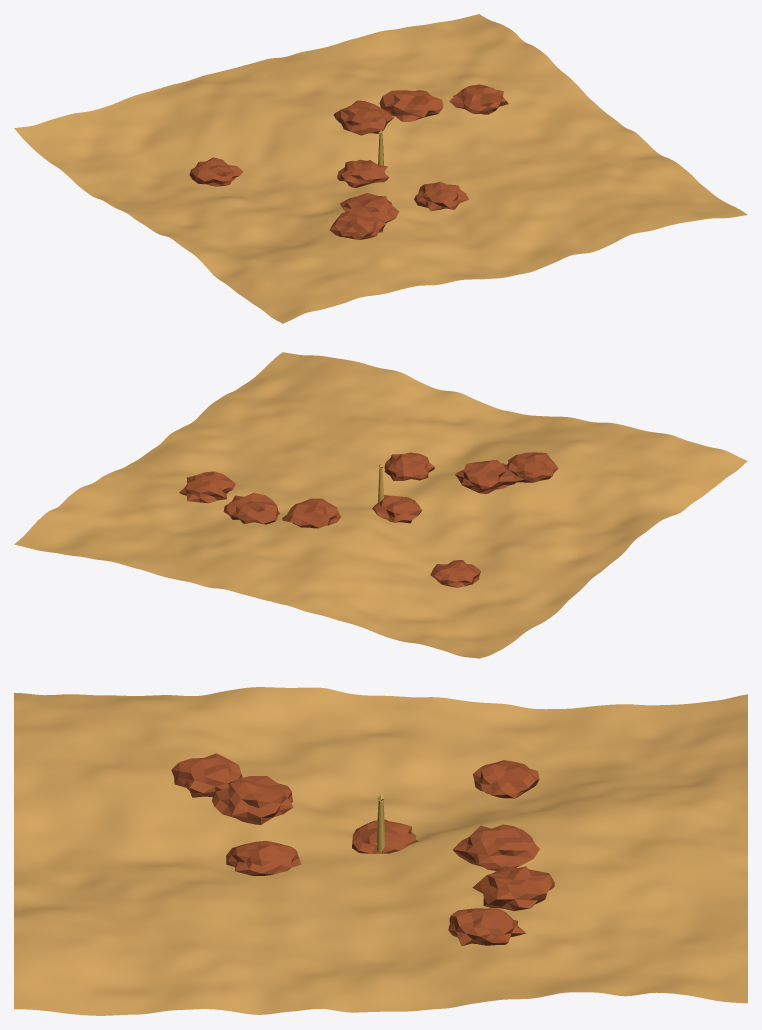
File: Preset-desert.glb
3 renders of one model, top to bottom at view 1: azimuth 30°, elevation 25°; view 2: azimuth 150°, elevation 25°; view 3: azimuth 270°, elevation 25°, orthographic. The views are drawn at different scales.
Parts seen in each view (by area): view 1: dunes-surface, mesas-stone (×8); view 2: dunes-surface, mesas-stone (×8); view 3: dunes-surface, mesas-stone (×8).
Part boxes in pixels (x1,y1,x2,y2): dunes-surface: (14,14,747,323); mesas-stone (×8): (189,84,508,239); dunes-surface: (14,352,747,658); mesas-stone (×8): (179,452,558,587); dunes-surface: (14,687,747,1015); mesas-stone (×8): (171,753,554,945).
Size of the model in its own units: 120 by 14.34 by 120.
